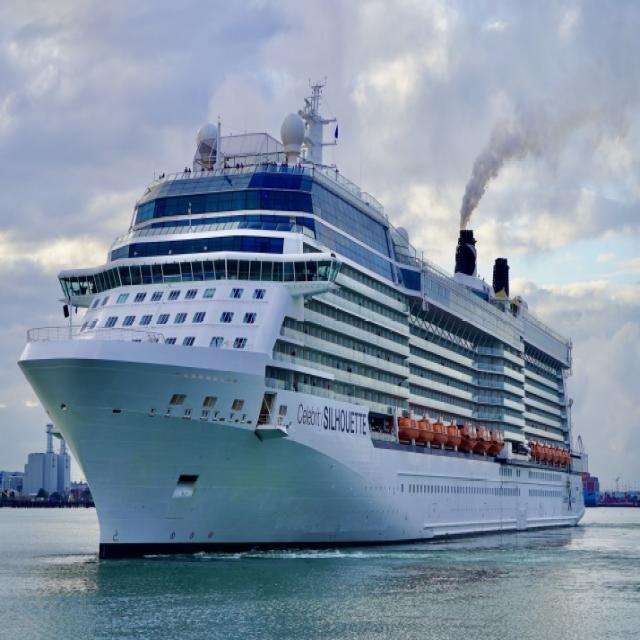cruises: (7, 67, 601, 576)
